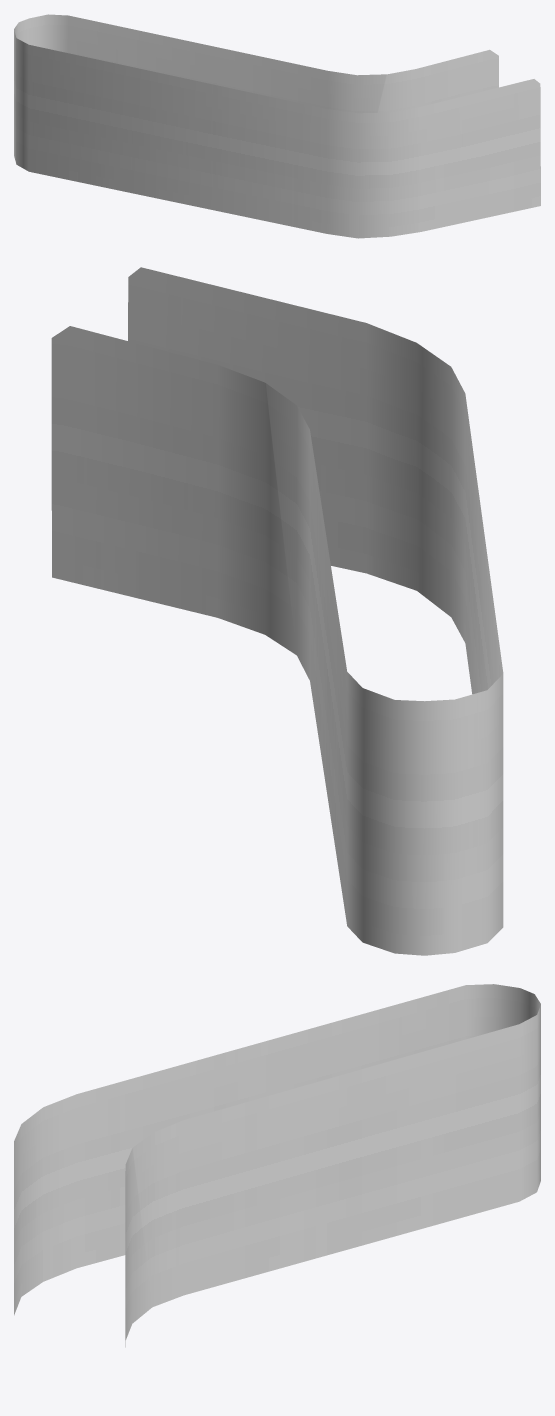
Rendered from pref_sm_city_chairblock03_holo_snow_lv1.fbx.
3 views of the same model, one above another, from view 1: azimuth 30°, elevation 25°; view 2: azimuth 150°, elevation 25°; view 3: azimuth 270°, elevation 25° (orthographic). The views are drawn at different scales.
Visible parts, largest first — view 1: pref_sm_city_chairblock03_holo_snow_lv1; view 2: pref_sm_city_chairblock03_holo_snow_lv1; view 3: pref_sm_city_chairblock03_holo_snow_lv1.
Part boxes in pixels (left/top/right/bottom): pref_sm_city_chairblock03_holo_snow_lv1: left=14, top=14, right=540, bottom=238; pref_sm_city_chairblock03_holo_snow_lv1: left=51, top=267, right=503, bottom=955; pref_sm_city_chairblock03_holo_snow_lv1: left=14, top=984, right=540, bottom=1347.
Size of the model in its own units: 3.16 by 1.11 by 2.94.
